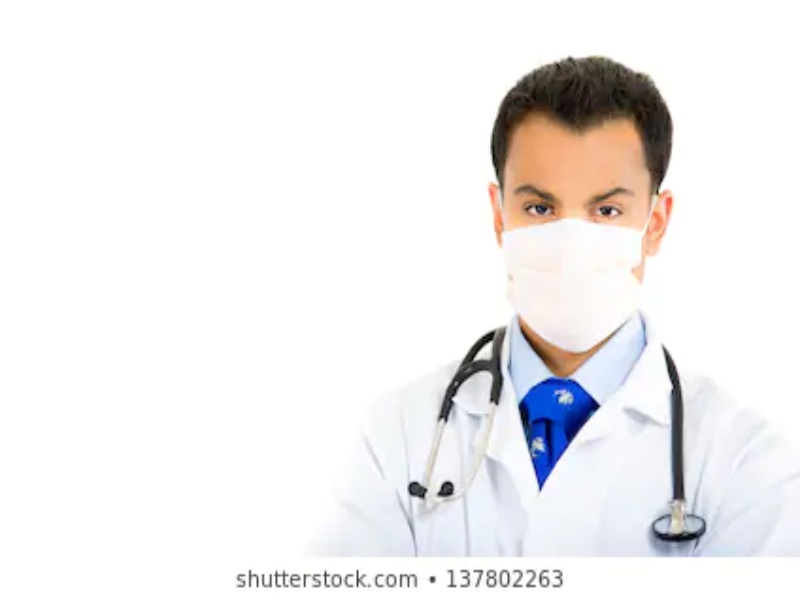ManaoArotava: (473, 61, 676, 374)
